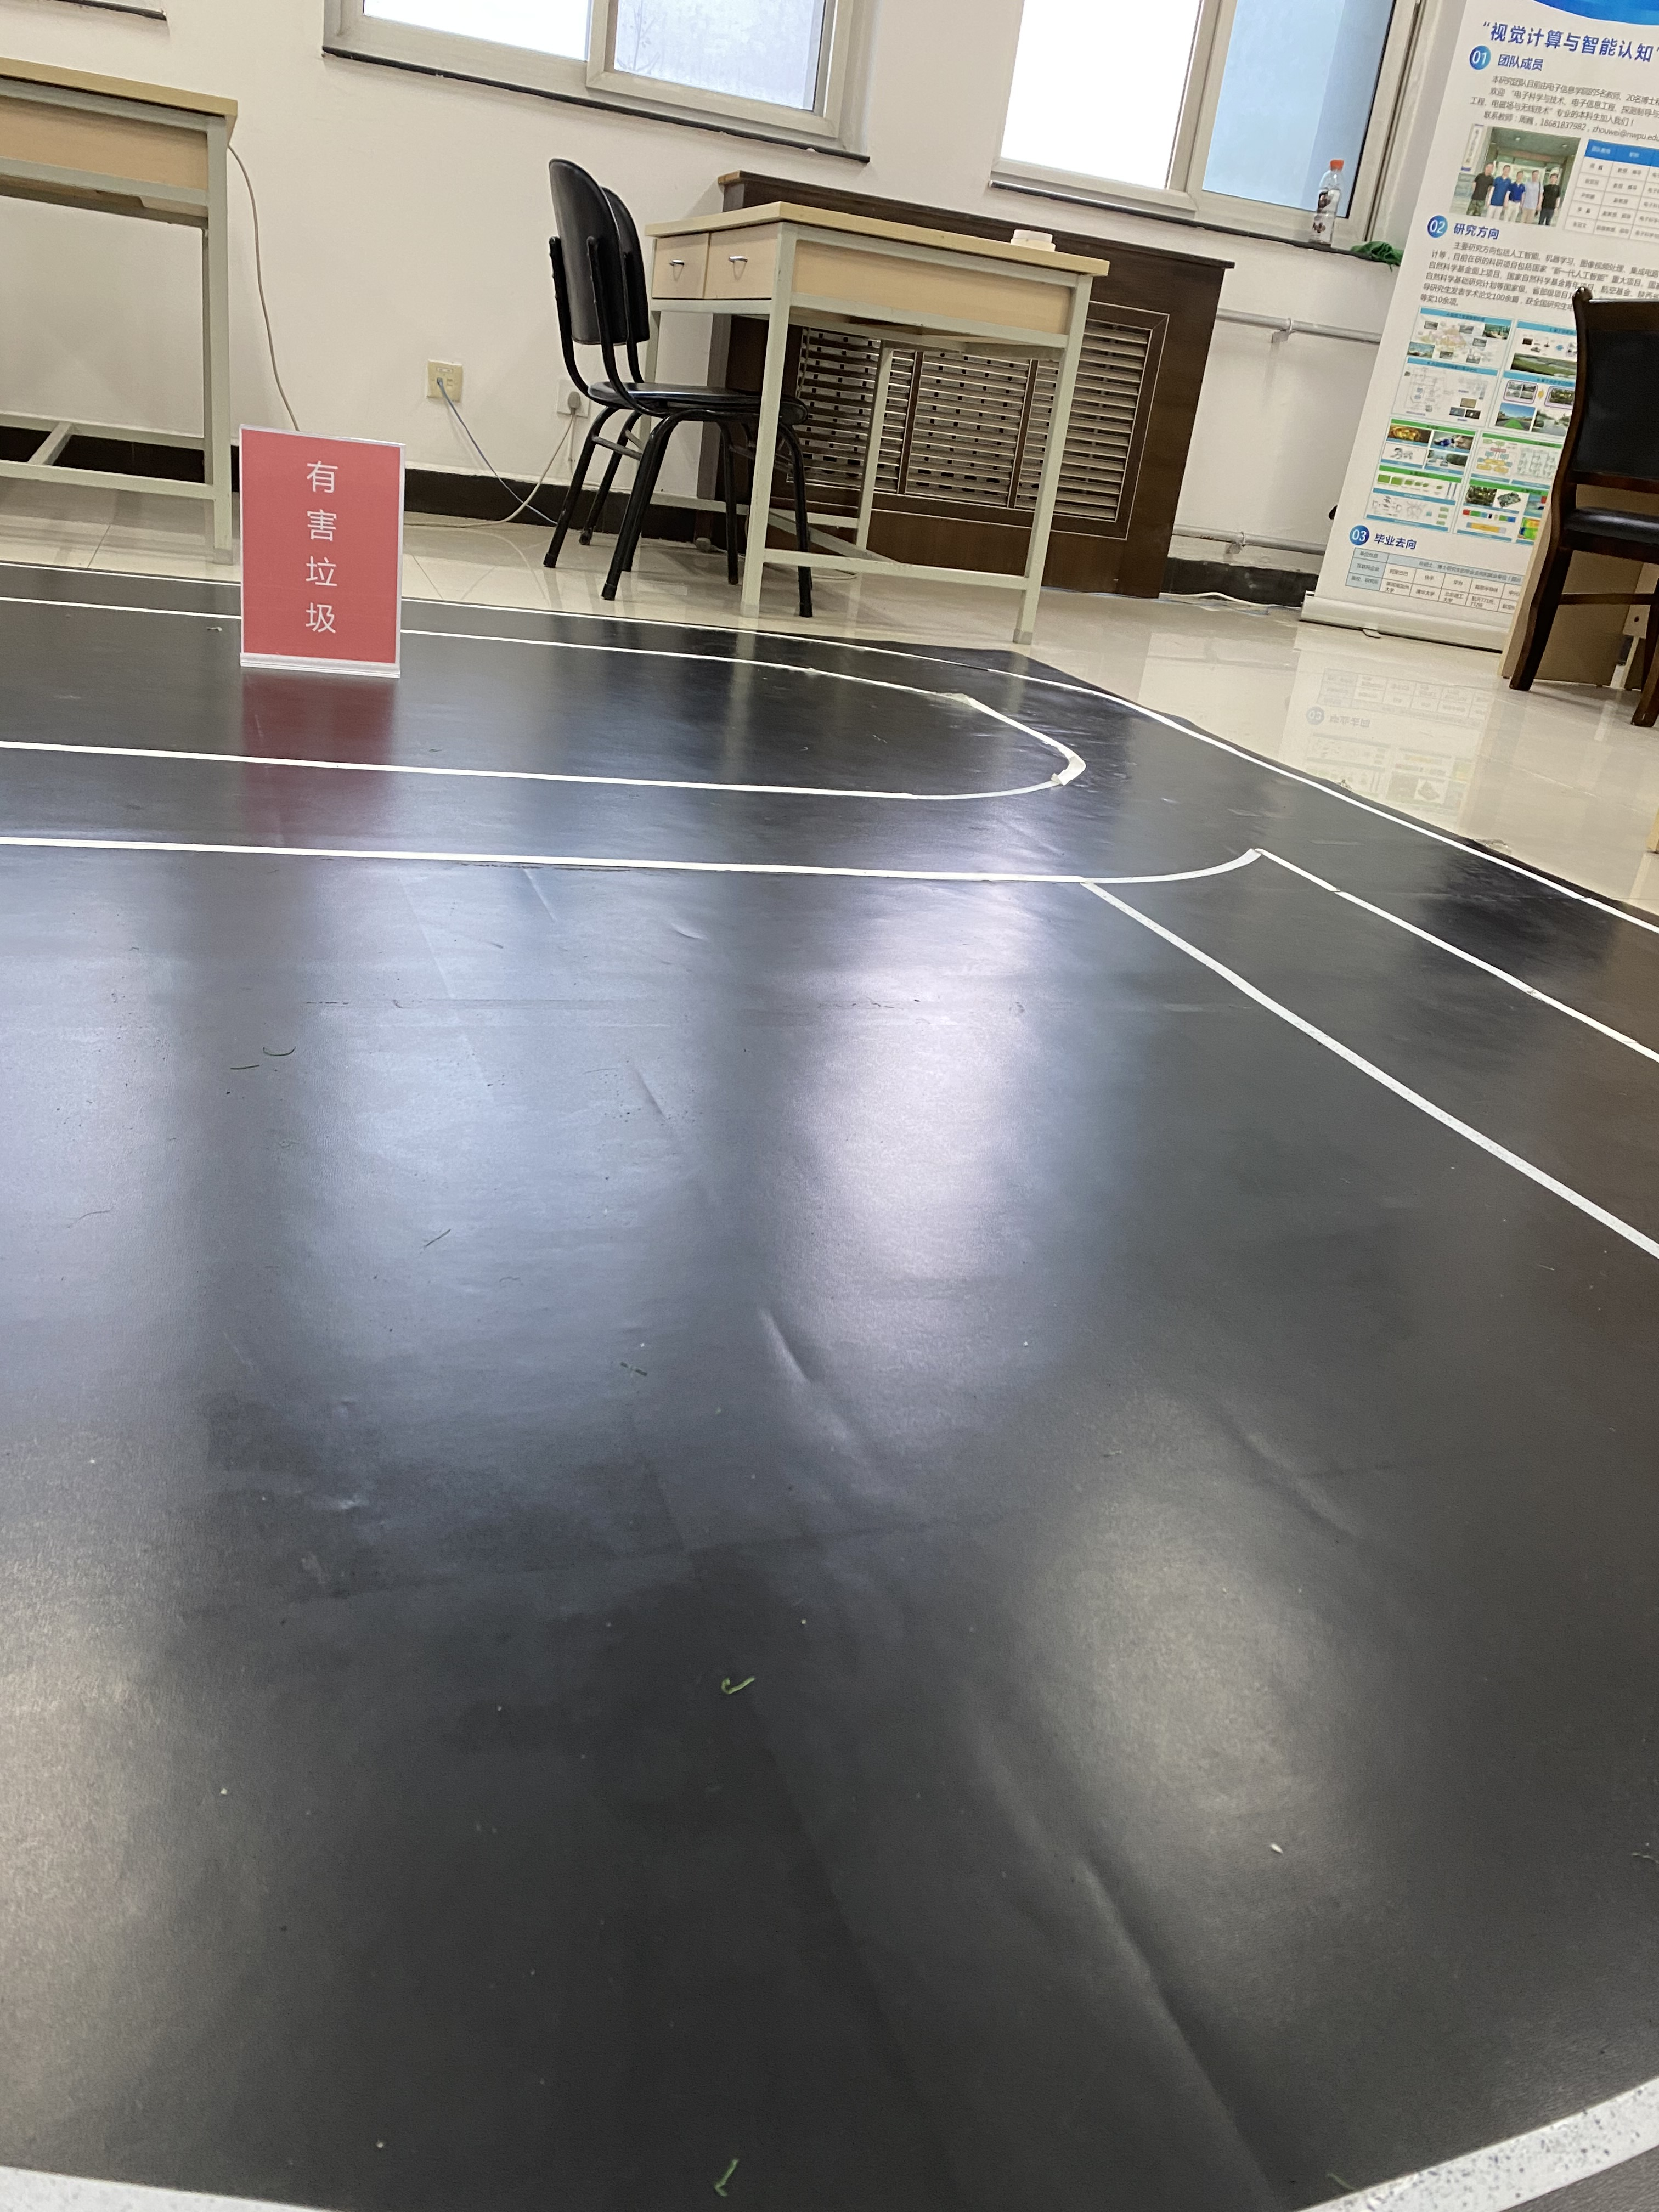red: (258, 446, 387, 657)
